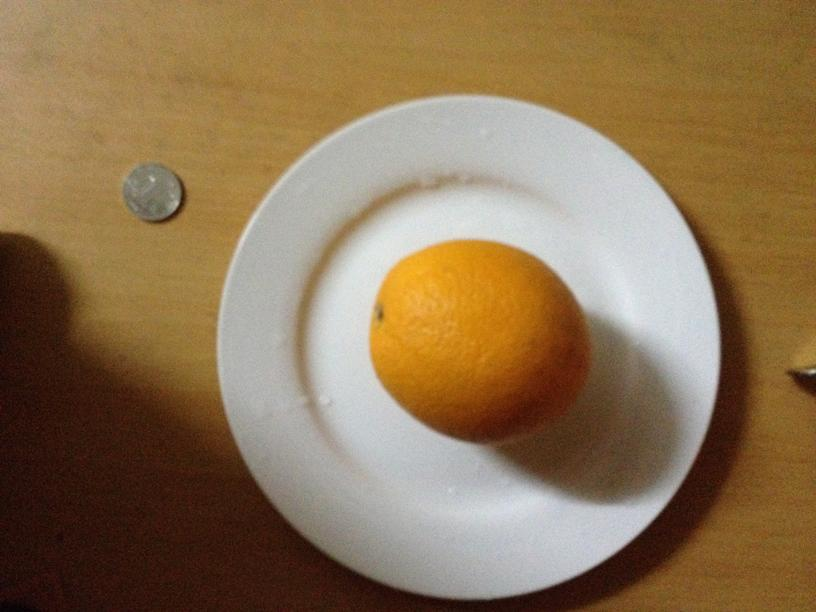coin: (125, 163, 180, 223)
orange: (370, 238, 593, 441)
